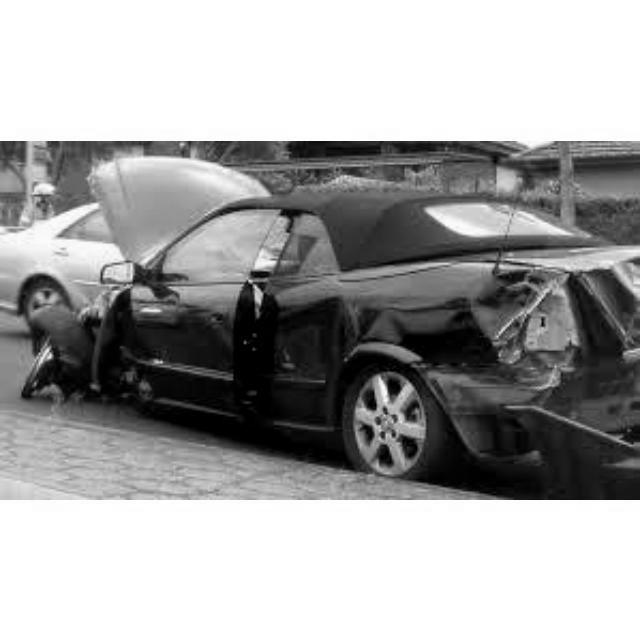Taillight-Damage: (513, 293, 568, 378)
boot-dent: (571, 246, 640, 376)
doorouter-dent: (122, 280, 264, 396)
fender-dent: (69, 288, 123, 369)
quaterpanel-dent: (321, 277, 507, 371)
